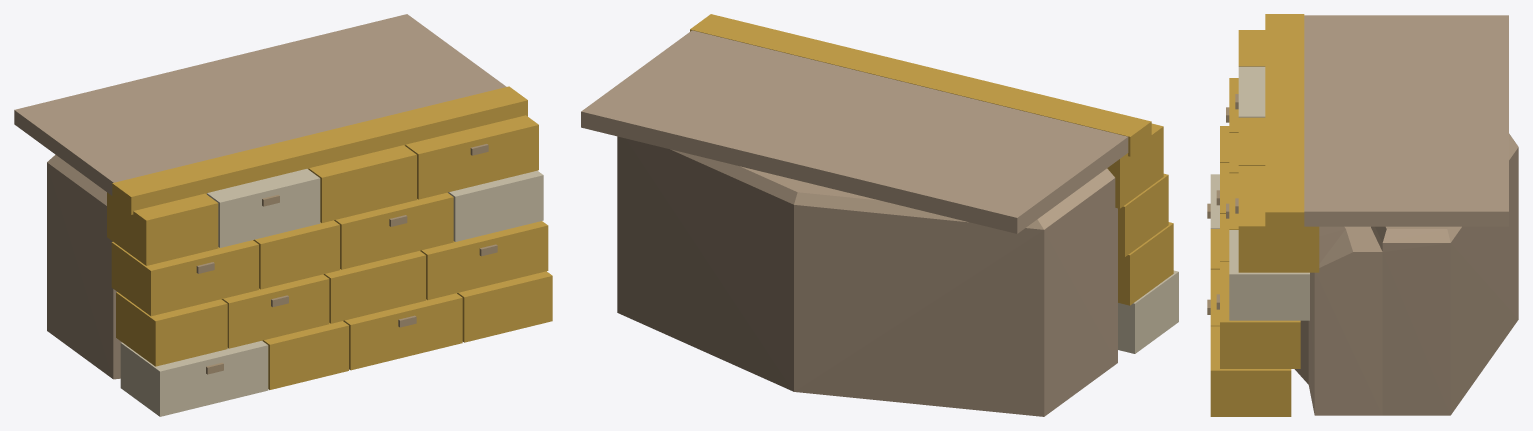
Rendered from terrace-wall-butter.glb.
The picture shows the model from 3 angles, left to right: view 1: azimuth 30°, elevation 25°; view 2: azimuth 150°, elevation 25°; view 3: azimuth 270°, elevation 25°; orthographic projection. The views are drawn at different scales.
Visible parts, largest first — view 1: terrace-wall-butter; view 2: terrace-wall-butter; view 3: terrace-wall-butter.
Boxes of the visible parts, box(x1,y1,x2,y2) form: terrace-wall-butter: box(14, 14, 552, 416); terrace-wall-butter: box(581, 14, 1178, 416); terrace-wall-butter: box(1207, 14, 1518, 416).
Bounding box in the file's own units: 6.04 × 2.93 × 4.01.
